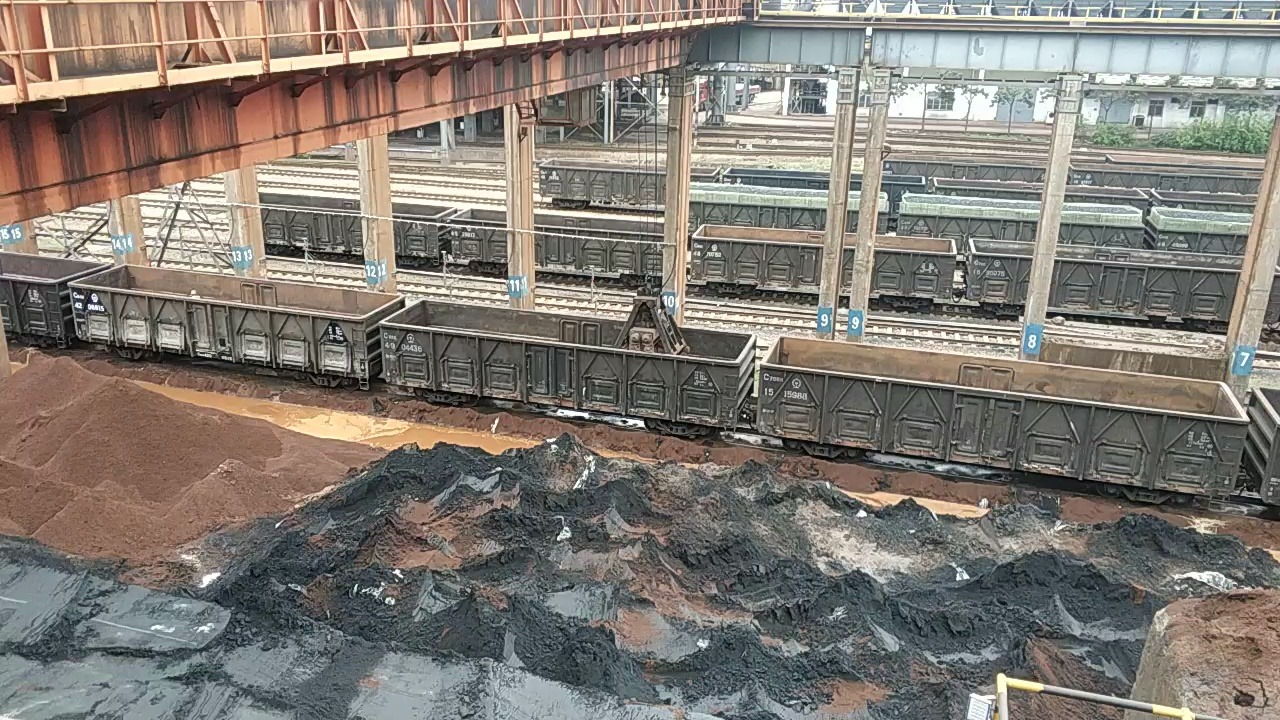grab: (602, 273, 696, 362)
